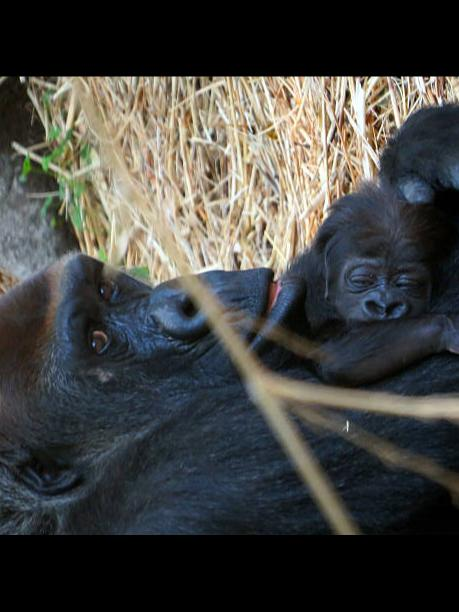gorille_Autres: (0, 76, 459, 522)
